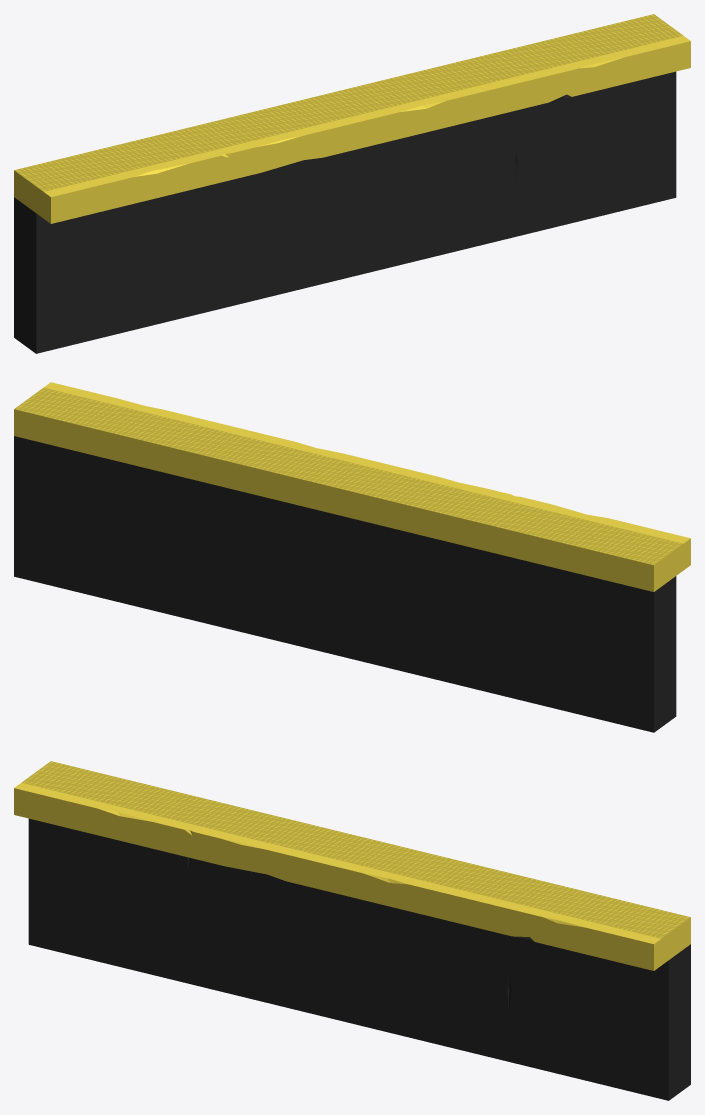
File: SW_ENV_PlatformEdge_B.fbx
The picture shows the model from 3 angles, top to bottom: view 1: azimuth 30°, elevation 25°; view 2: azimuth 150°, elevation 25°; view 3: azimuth 330°, elevation 25°; orthographic projection.
Visible parts, largest first — view 1: SW_ENV_PlatformEdge_B; view 2: SW_ENV_PlatformEdge_B; view 3: SW_ENV_PlatformEdge_B.
Boxes of the visible parts, x1,y1,x2,y2 form: SW_ENV_PlatformEdge_B: [14, 14, 690, 353]; SW_ENV_PlatformEdge_B: [14, 382, 690, 732]; SW_ENV_PlatformEdge_B: [14, 761, 690, 1100].
Bounding box in the file's own units: 500 × 125 × 50.
